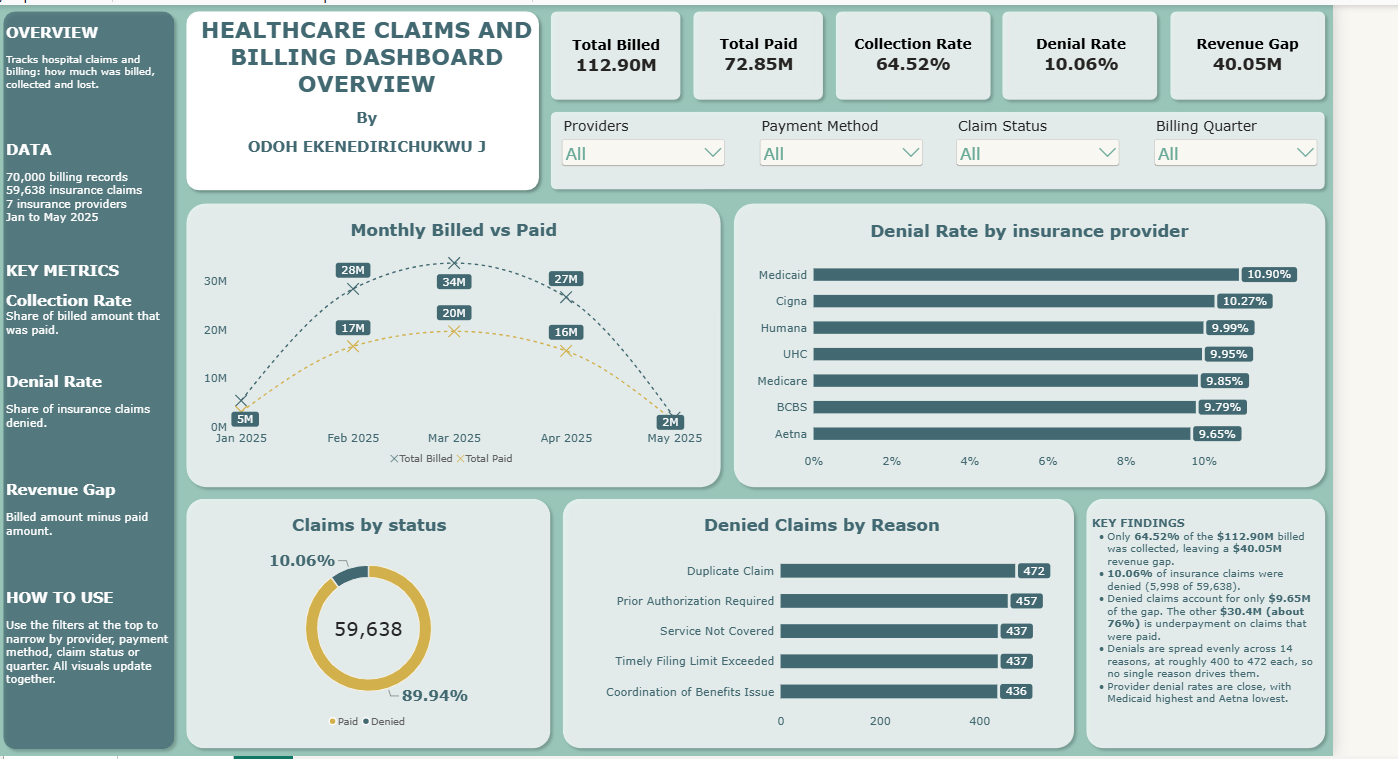

What the dashboard file says about the page in this screenshot:
{"tool":"powerbi","page":{"name":"Healthcare Claims Dashboard","canvas":[1920,1080],"ordinal":0},"visuals":[{"type":"shape","box":[263.7,0,525.1,275.5],"z":0},{"type":"shape","box":[992.6,0,204.4,145.4],"z":1000},{"type":"shape","box":[1678.5,0,240.8,145.4],"z":2000},{"type":"shape","box":[263.7,275.5,786.5,426.2],"z":3000},{"type":"shape","box":[263.7,702.1,541.6,376.8],"z":4000},{"type":"shape","box":[805,701.7,753.3,376.7],"z":5000},{"type":"shape","box":[1050.3,275.5,869,426.2],"z":6000},{"type":"shape","box":[788.1,145.4,1131.1,129.5],"z":7000},{"type":"shape","box":[1558.3,701.7,361.7,376.7],"z":8000},{"type":"cardVisual","fields":{"Data":["claims_and_billing_clean.Revenue Gap"]},"box":[1694.4,13.6,209,115.8],"z":9000},{"type":"shape","box":[1437.7,0,240.8,145.4],"z":10000},{"type":"shape","box":[1197,0,240.8,145.4],"z":11000},{"type":"shape","box":[788.1,0,204.4,145.4],"z":12000},{"type":"cardVisual","fields":{"Data":["claims_and_billing_clean.Denial Rate"]},"box":[1453.6,13.6,209,115.8],"z":13000},{"type":"cardVisual","fields":{"Data":["claims_and_billing_clean.Collection Rate"]},"box":[1212.9,13.6,209,115.8],"z":14000},{"type":"cardVisual","fields":{"Data":["claims_and_billing_clean.Total Paid"]},"box":[1010.7,13.6,165.8,115.8],"z":15000},{"type":"cardVisual","fields":{"Data":["claims_and_billing_clean.Total Billed"]},"box":[806.3,15.9,165.8,115.8],"z":16000},{"type":"slicer","fields":{"Values":["claims_and_billing_clean.insurance_provider"]},"box":[806.3,161.7,245.3,95.4],"z":17000},{"type":"slicer","fields":{"Values":["claims_and_billing_clean.payment_method"]},"box":[1090.5,161.7,245.3,95.4],"z":18000},{"type":"slicer","fields":{"Values":["claims_and_billing_clean.claim_status"]},"box":[1374.7,161.7,245.3,95.4],"z":19000},{"type":"slicer","fields":{"Values":["claims_and_billing_clean.billing_quarter"]},"box":[1658.9,161.7,245.3,95.4],"z":20000},{"type":"lineChart","title":"Monthly Billed vs Paid","fields":{"Category":["claims_and_billing_clean.billing_month"],"Y":["claims_and_billing_clean.Total Billed","claims_and_billing_clean.Total Paid"]},"box":[280.2,294.4,751.2,390.9],"z":21000},{"type":"barChart","title":"Denial Rate by insurance provider","fields":{"Y":["claims_and_billing_clean.Denial Rate"],"Category":["claims_and_billing_clean.insurance_provider"]},"box":[1066.7,295,836.7,391.7],"z":22000},{"type":"donutChart","title":"Claims by status","fields":{"Category":["claims_and_billing_clean.claim_status"],"Y":["claims_and_billing_clean.Total Claims"]},"box":[280,718.3,508.3,343.3],"z":23000},{"type":"barChart","title":"Denied Claims by Reason","fields":{"Y":["claims_and_billing_clean.Denied Claims"],"Category":["claims_and_billing_clean.denial_reason"]},"box":[826.7,718.3,718.3,343.3],"z":24000},{"type":"textbox","box":[292.8,15.9,476.8,242],"z":25000},{"type":"textbox","box":[1574.7,718.3,327.9,343],"z":26000},{"type":"shape","box":[0,0,264.4,1079.3],"z":27000},{"type":"textbox","box":[13.8,25.3,236.8,119.5],"z":28000},{"type":"textbox","box":[13.8,193.1,236.8,127.6],"z":29000},{"type":"textbox","box":[13.8,369,236.8,110.3],"z":30000},{"type":"textbox","box":[13.8,527.6,236.8,108],"z":31000},{"type":"textbox","box":[13.8,683.9,236.8,106.9],"z":32000},{"type":"textbox","box":[13.8,839.1,236.8,147.1],"z":33000}]}

Visuals, with their boxes on the page's 1920x1080 design canvas (x1, y1, x2, y2). These are canvas units, not pixel positions in the 1398x759 screenshot, which may show the page scaled, cropped or inside an application window:
shape: 264 0 789 276
shape: 993 0 1197 145
shape: 1678 0 1919 145
shape: 264 276 1050 702
shape: 264 702 805 1079
shape: 805 702 1558 1078
shape: 1050 276 1919 702
shape: 788 145 1919 275
shape: 1558 702 1920 1078
cardVisual - claims_and_billing_clean.Revenue Gap: 1694 14 1903 129
shape: 1438 0 1678 145
shape: 1197 0 1438 145
shape: 788 0 992 145
cardVisual - claims_and_billing_clean.Denial Rate: 1454 14 1663 129
cardVisual - claims_and_billing_clean.Collection Rate: 1213 14 1422 129
cardVisual - claims_and_billing_clean.Total Paid: 1011 14 1176 129
cardVisual - claims_and_billing_clean.Total Billed: 806 16 972 132
slicer - claims_and_billing_clean.insurance_provider: 806 162 1052 257
slicer - claims_and_billing_clean.payment_method: 1090 162 1336 257
slicer - claims_and_billing_clean.claim_status: 1375 162 1620 257
slicer - claims_and_billing_clean.billing_quarter: 1659 162 1904 257
"Monthly Billed vs Paid" lineChart: 280 294 1031 685
"Denial Rate by insurance provider" barChart: 1067 295 1903 687
"Claims by status" donutChart: 280 718 788 1062
"Denied Claims by Reason" barChart: 827 718 1545 1062
textbox: 293 16 770 258
textbox: 1575 718 1903 1061
shape: 0 0 264 1079
textbox: 14 25 251 145
textbox: 14 193 251 321
textbox: 14 369 251 479
textbox: 14 528 251 636
textbox: 14 684 251 791
textbox: 14 839 251 986
